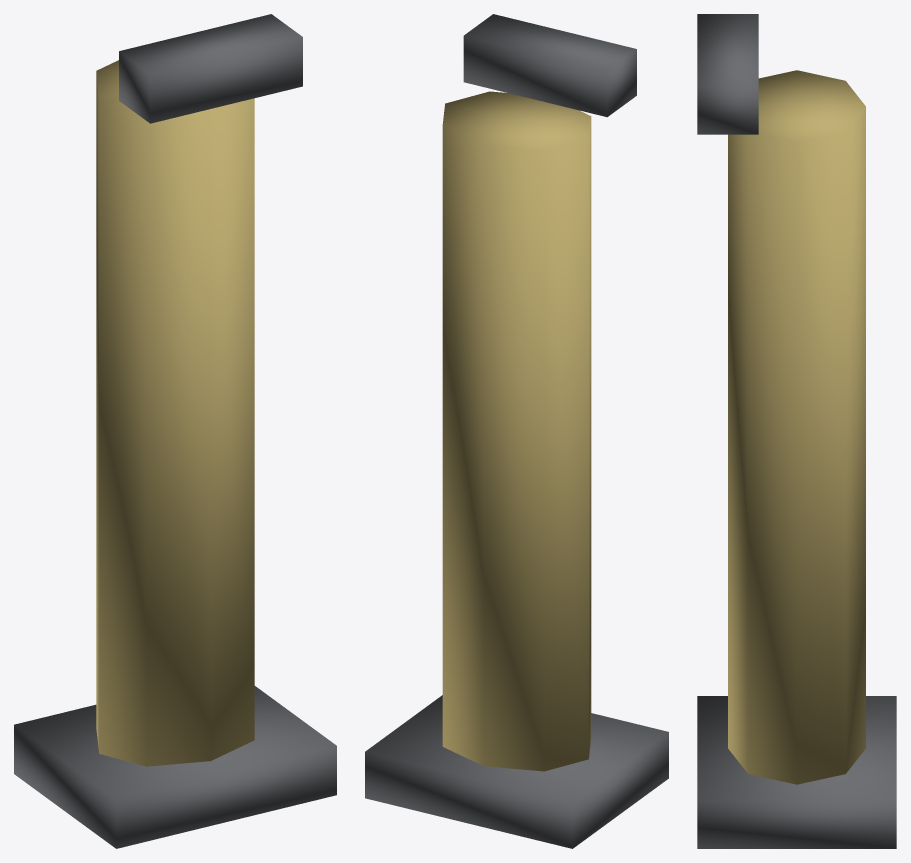
Rendered from bollard_12.glb.
3 renders of one model, left to right at view 1: azimuth 30°, elevation 25°; view 2: azimuth 150°, elevation 25°; view 3: azimuth 270°, elevation 25°, orthographic. The views are drawn at different scales.
Visible parts, largest first — view 1: world; view 2: world; view 3: world.
Part boxes in pixels (<box>): world: <box>14,14,336,848</box>; world: <box>365,14,668,848</box>; world: <box>697,14,896,848</box>.
Size of the model in its own units: 0.2912 by 0.9672 by 0.234.
